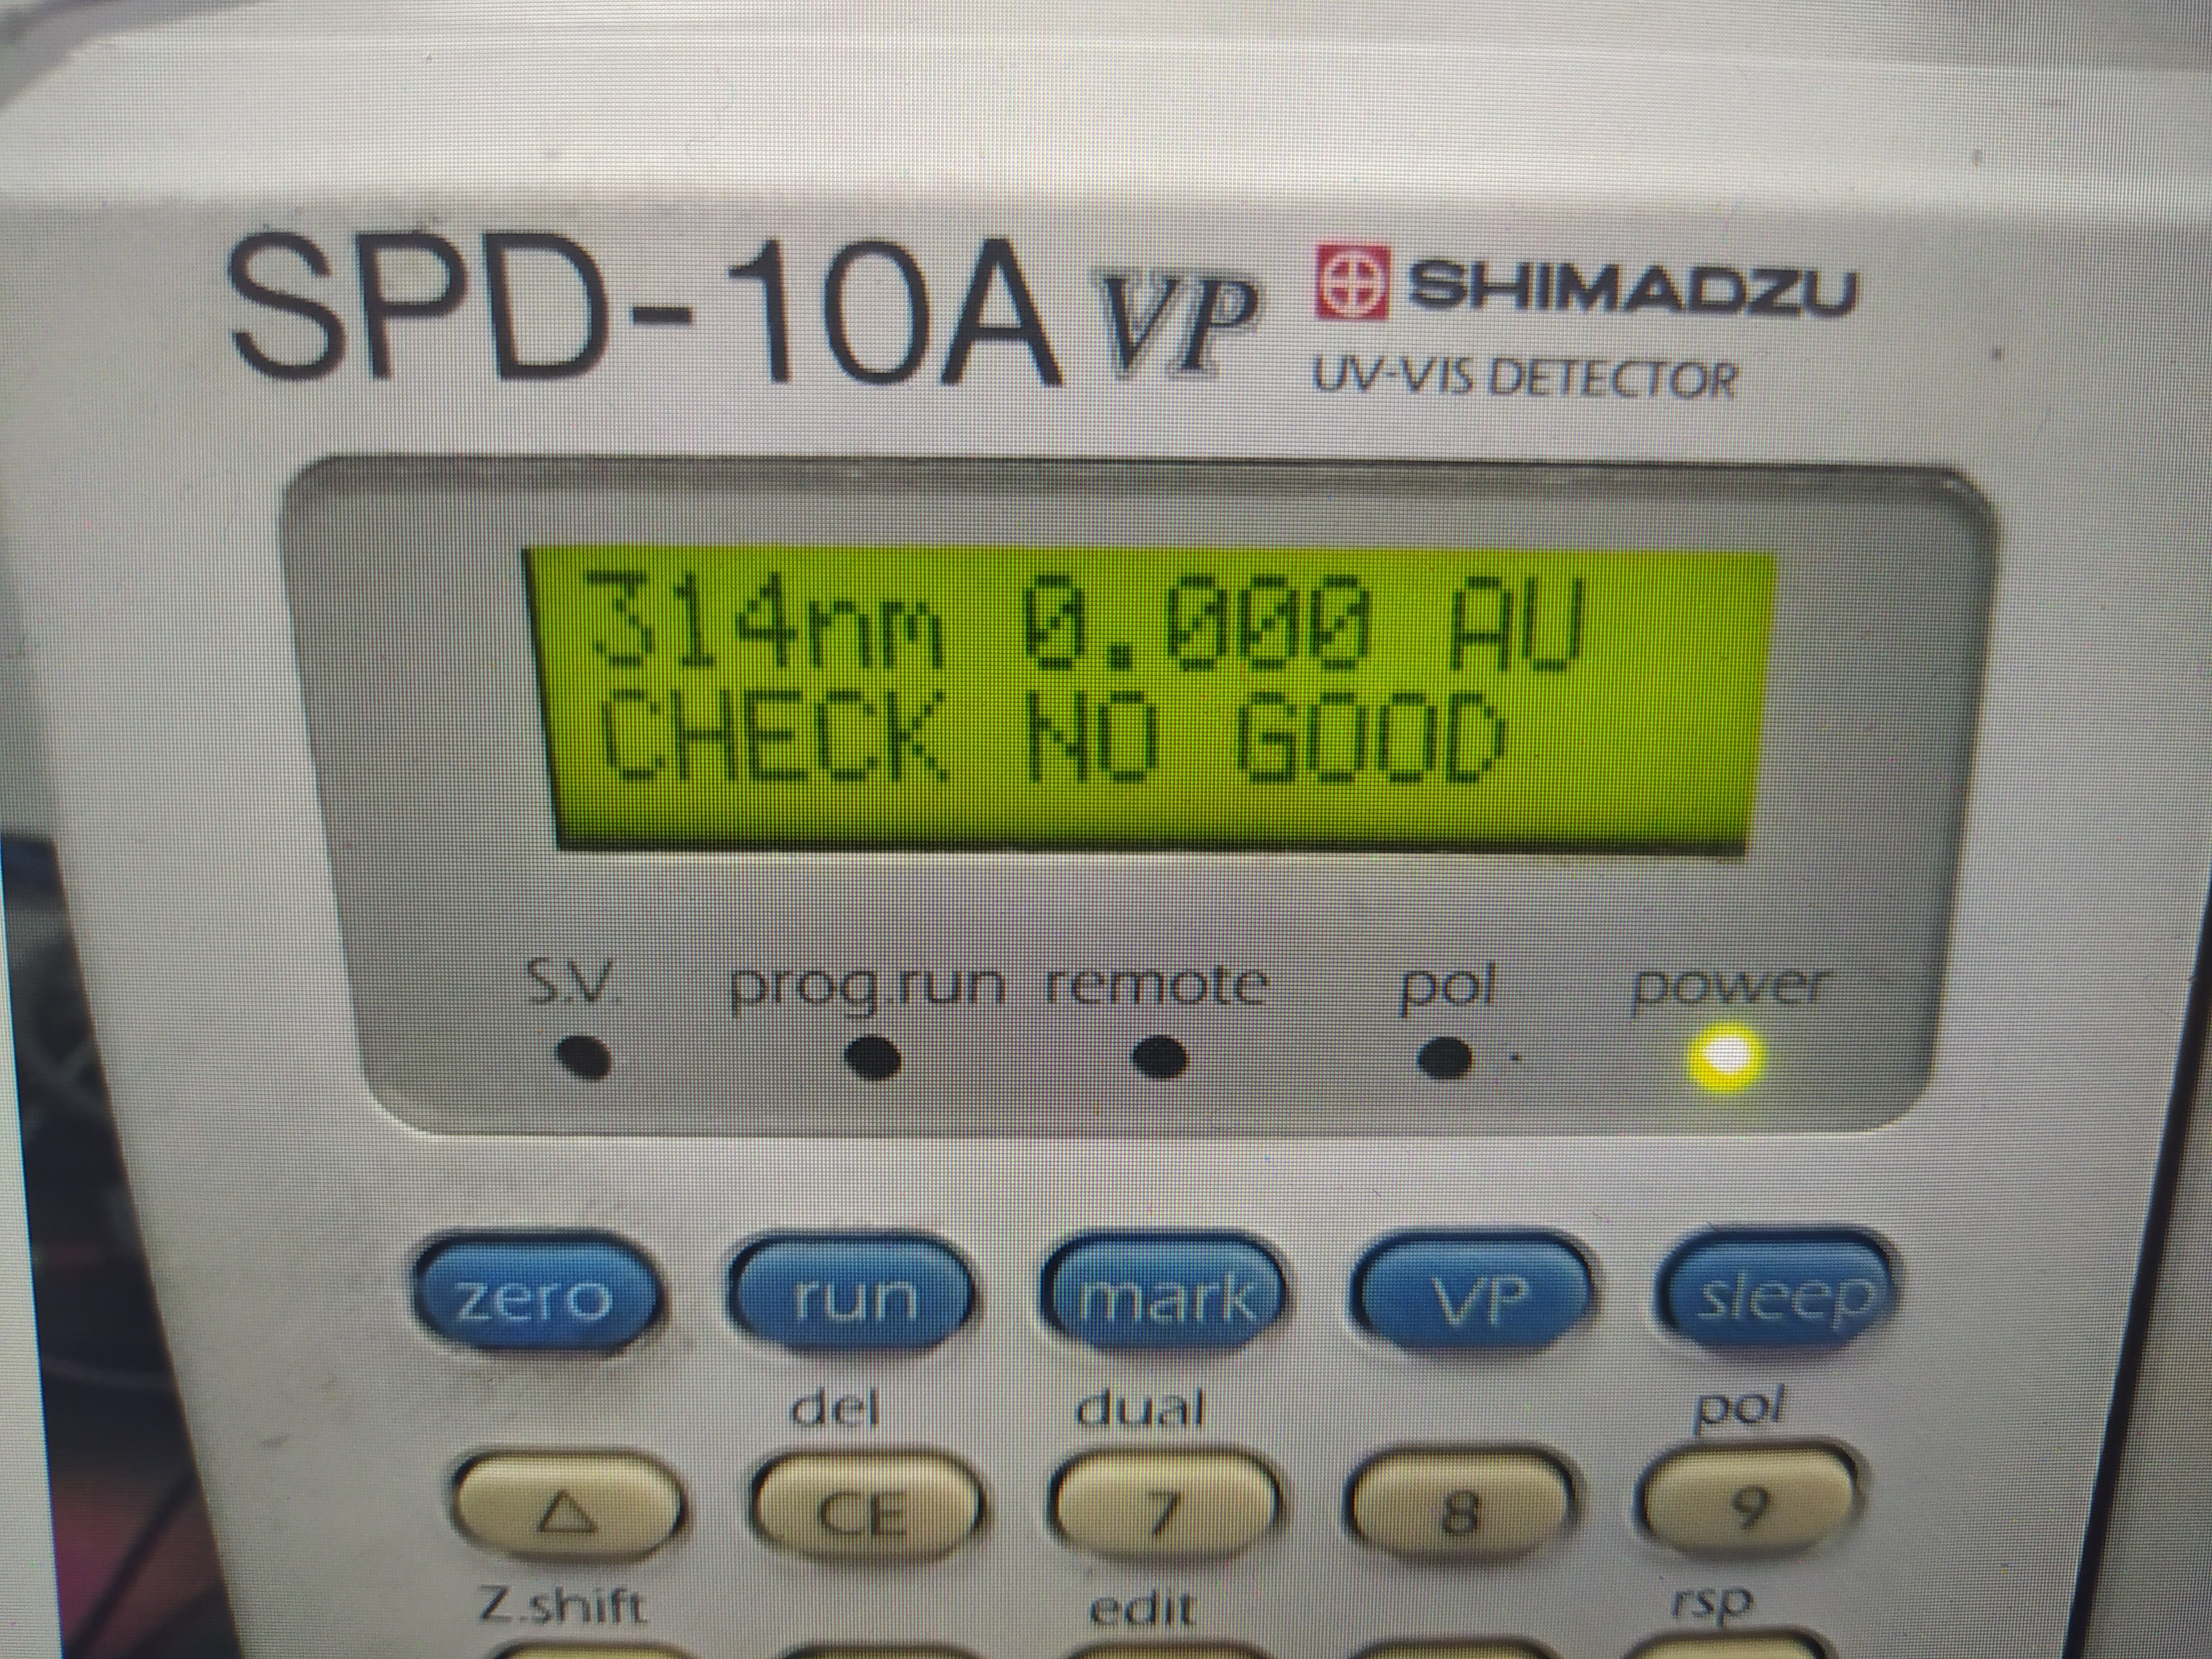.: (1099, 568, 1146, 676)
0: (820, 237, 937, 390), (1015, 568, 1097, 683), (1230, 572, 1308, 680), (1162, 570, 1238, 680), (1305, 568, 1378, 678)
1: (702, 239, 810, 397), (651, 566, 728, 674)
3: (578, 566, 662, 678)
4: (725, 563, 806, 671)
7: (1137, 1478, 1191, 1551)
8: (1442, 1483, 1484, 1547)
9: (1733, 1483, 1770, 1544)
